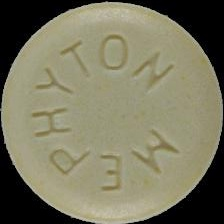69189-1704: (0, 0, 224, 224)
